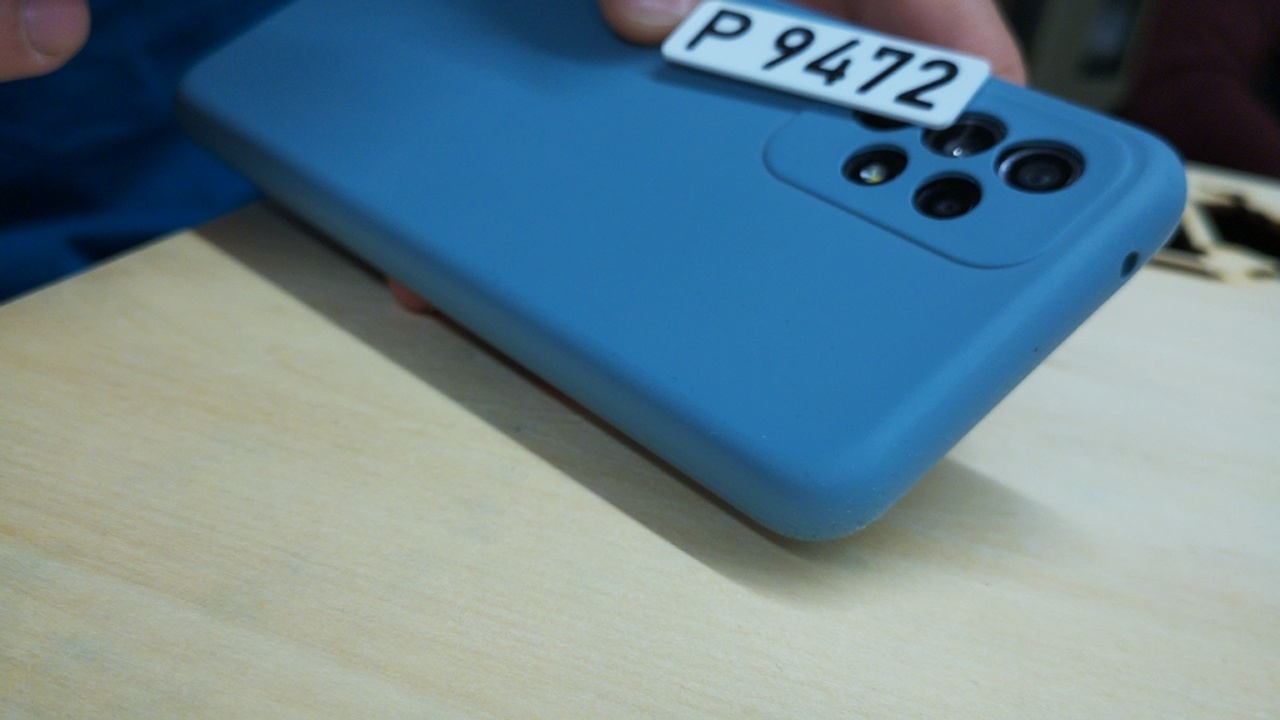license_plate: (658, 0, 993, 131)
